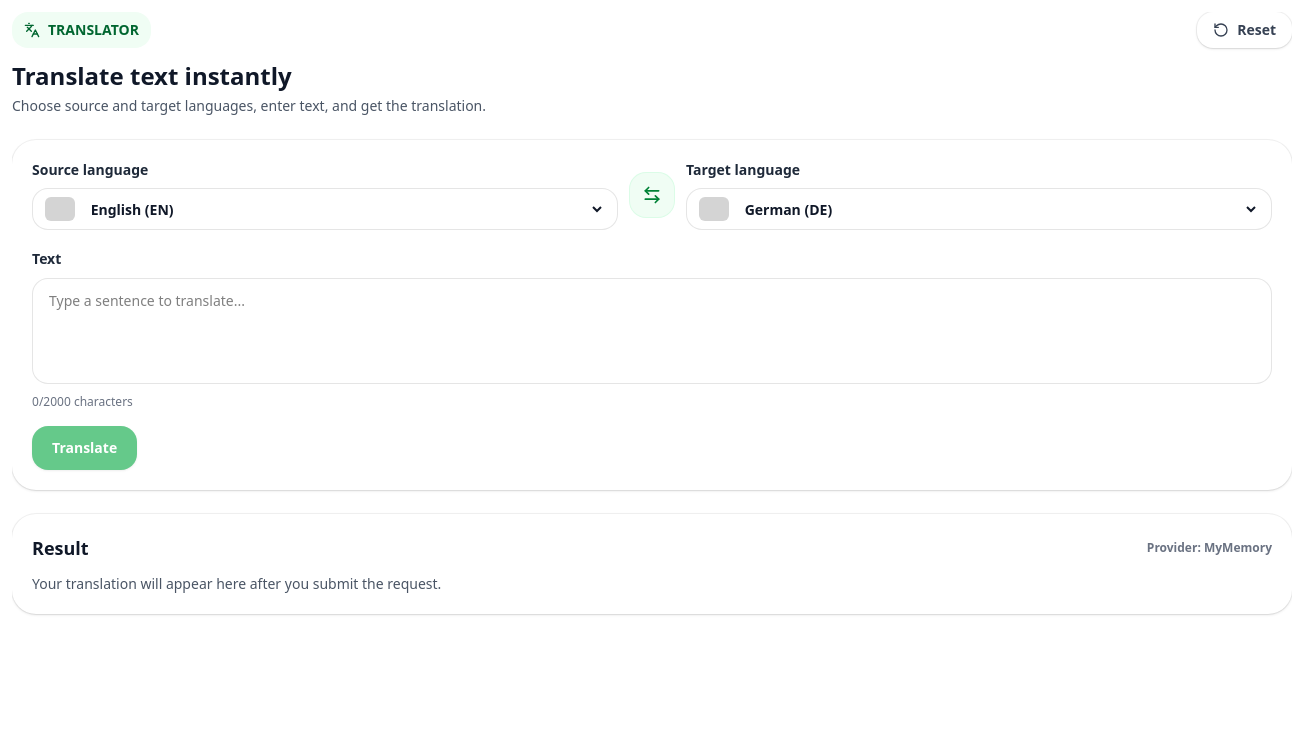
Test: Translate page › enables Translate button when text is typed and source != target
Type "Hello" into the text box with placeholder "Type a sentence to translate..." at (652, 331), box [32, 278, 1272, 384]
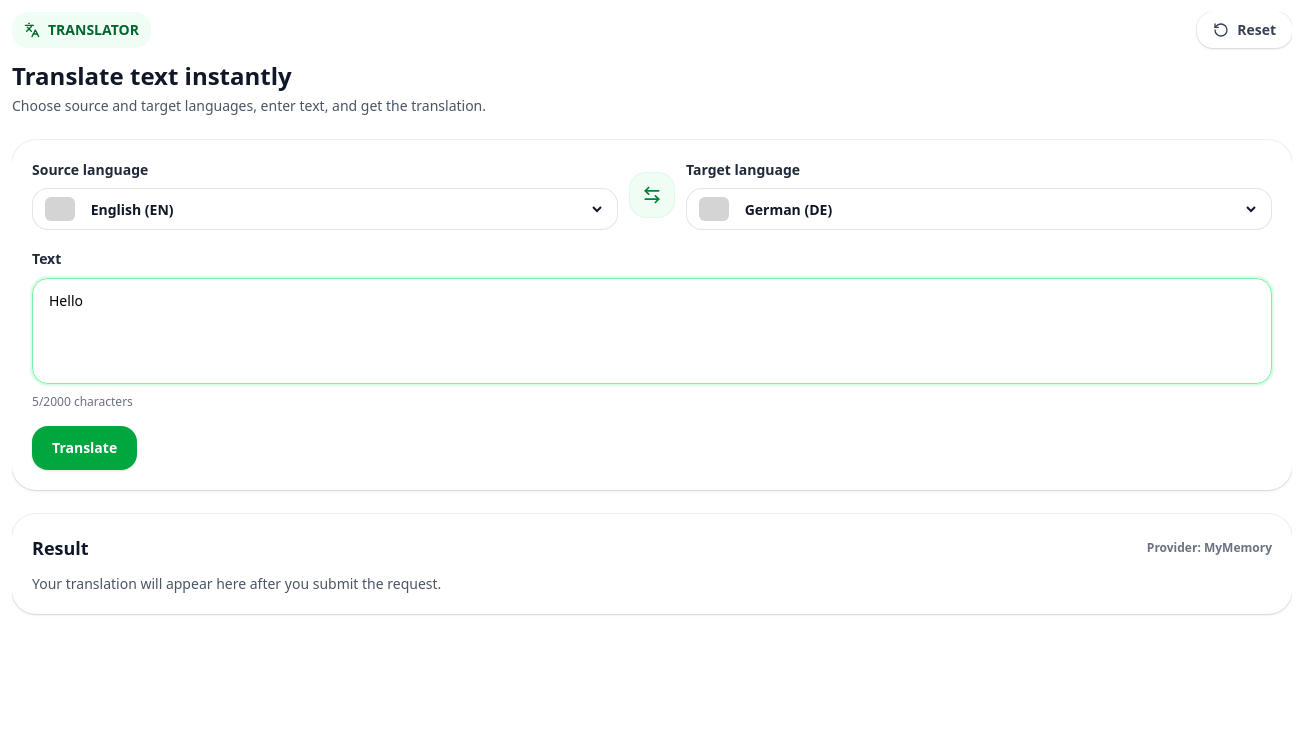
Expected: the button "Translate" is enabled, [32, 426, 137, 470]
